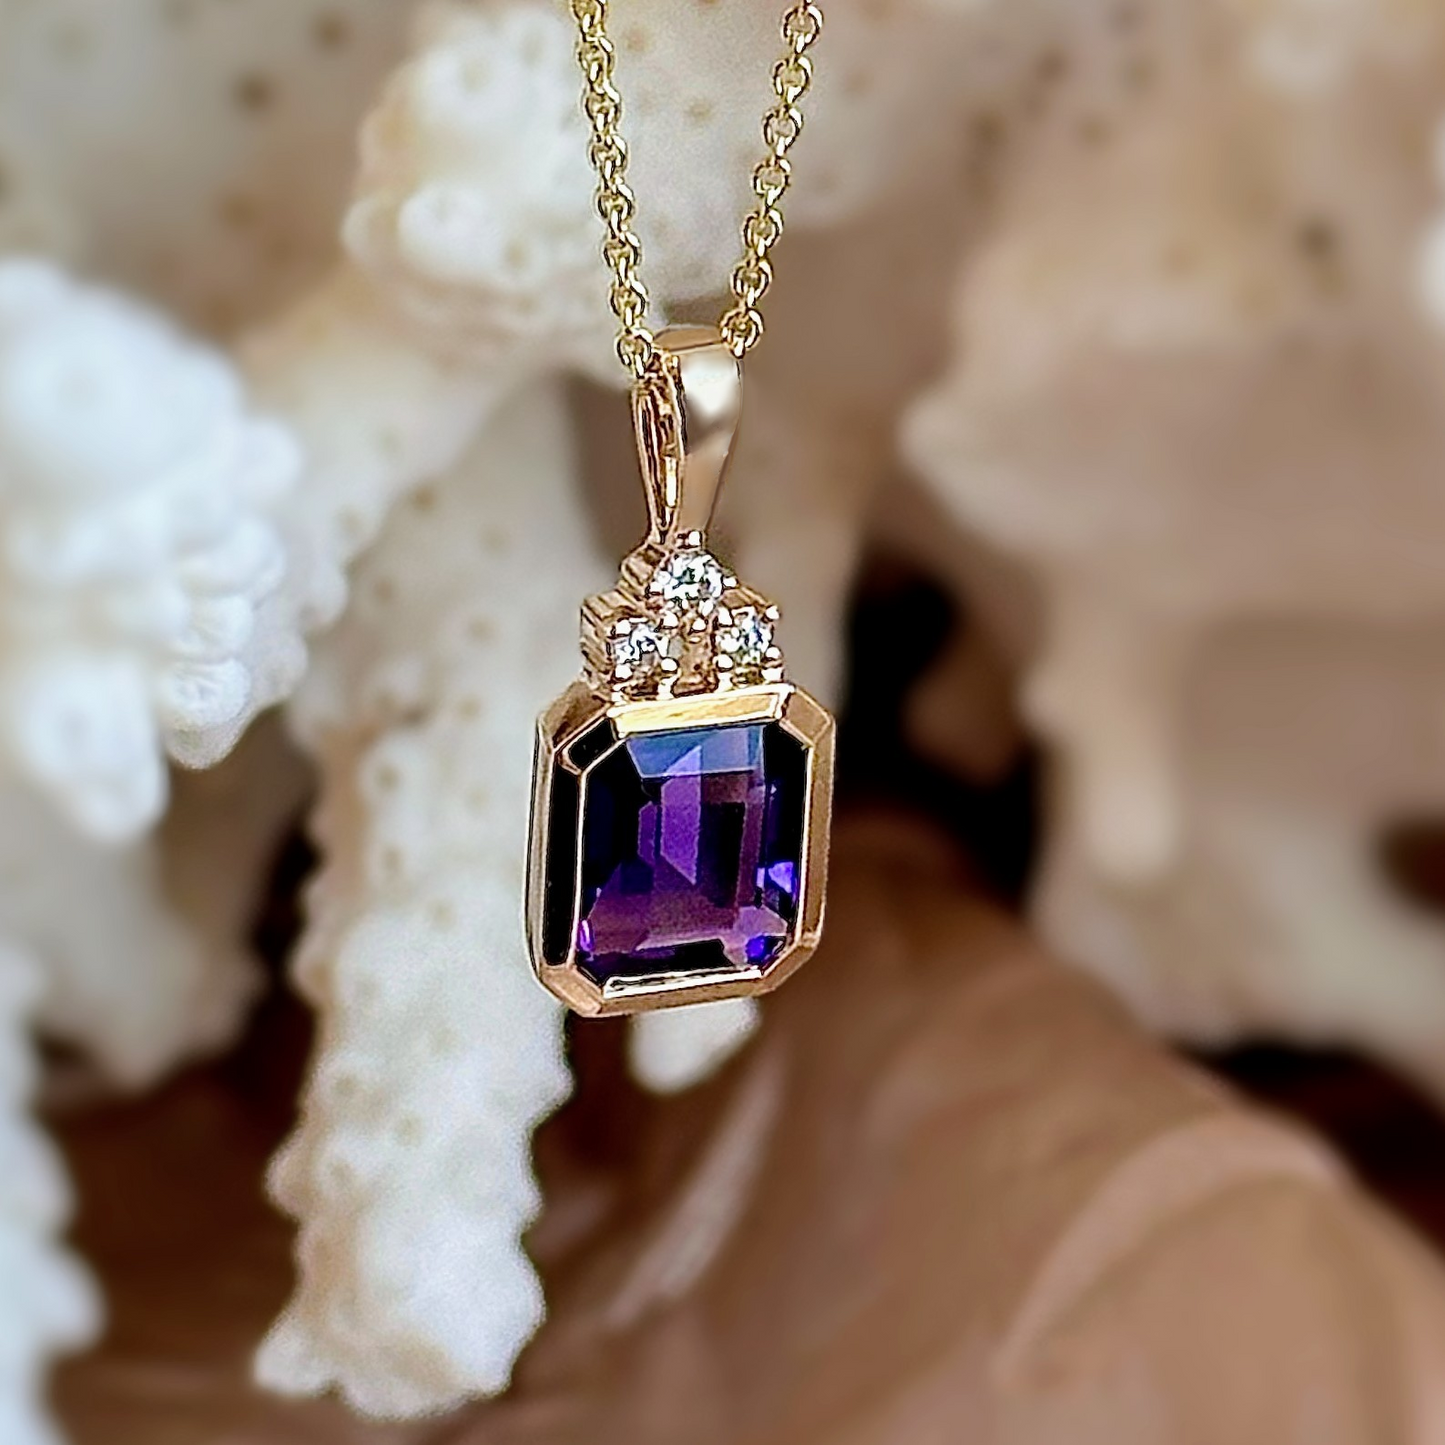Amethyst: (550, 717, 818, 995)
